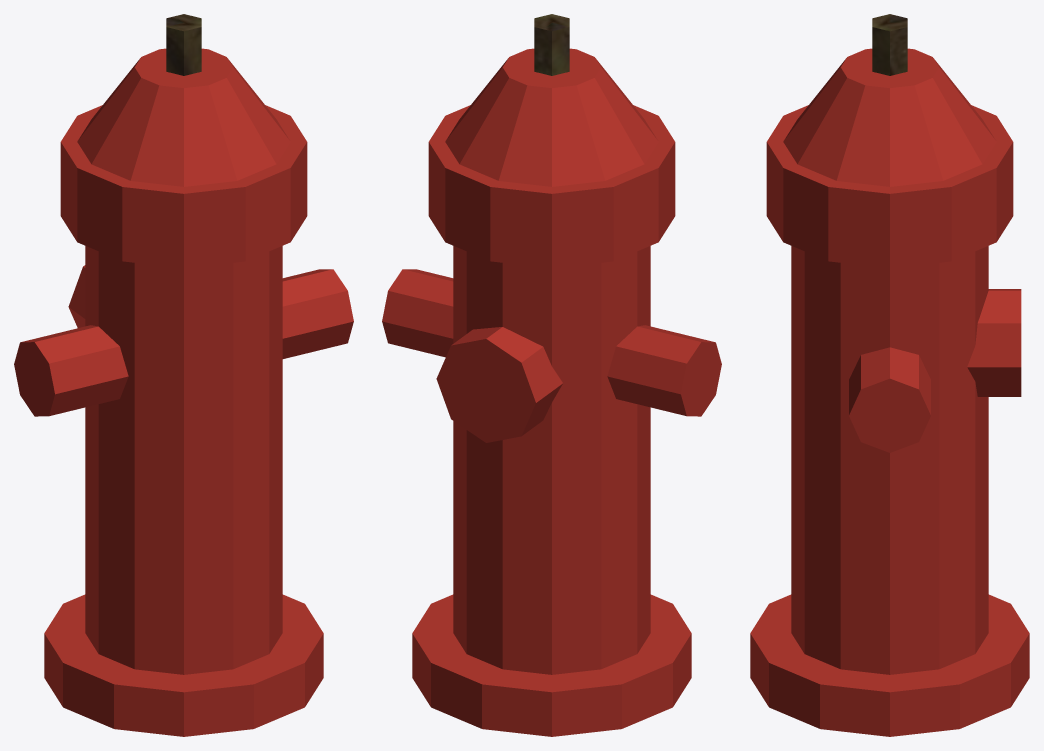
Rendered from prop_fire_hydrant.gltf.
The picture shows the model from 3 angles, left to right: view 1: azimuth 30°, elevation 25°; view 2: azimuth 150°, elevation 25°; view 3: azimuth 270°, elevation 25°; orthographic projection.
Visible parts, largest first — view 1: prop_fire_hydrant; view 2: prop_fire_hydrant; view 3: prop_fire_hydrant.
Boxes of the visible parts, x1,y1,x2,y2 form: prop_fire_hydrant: [14, 14, 353, 736]; prop_fire_hydrant: [382, 14, 721, 736]; prop_fire_hydrant: [750, 14, 1029, 736].
Size of what is drawn, in the model's own units: 0.42 by 0.88 by 0.34.
Materials: 2 (1 with a texture image).
